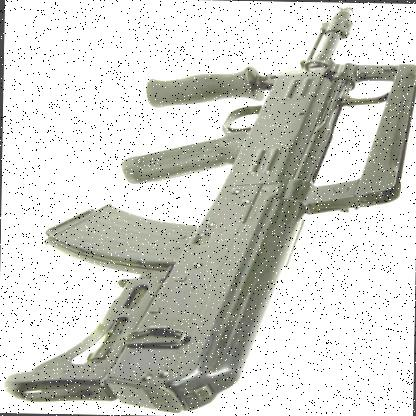rifle: (31, 6, 416, 411)
